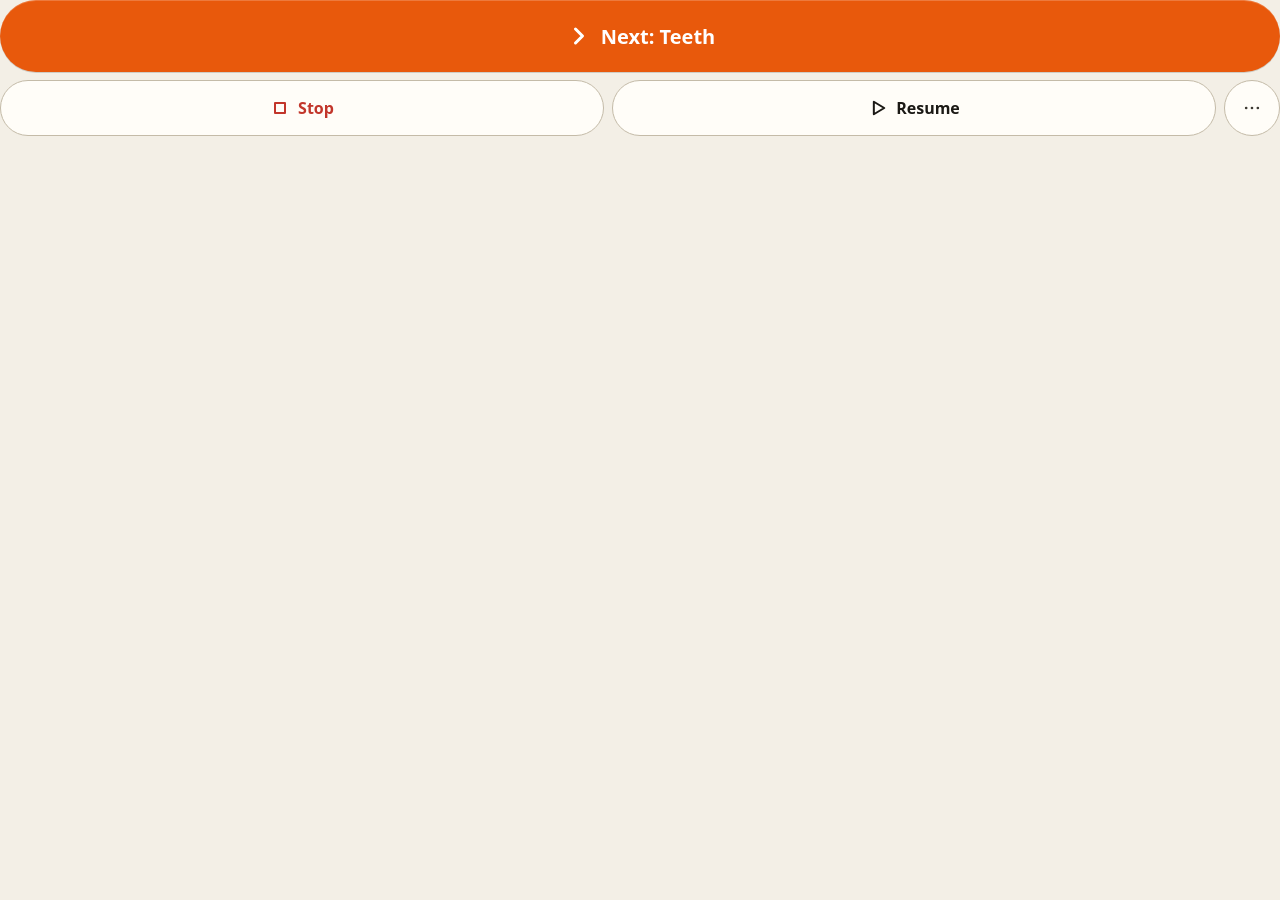
Scenario: RunControls › renders each action once: primary, secondaries, then More with overflow before destructive
Click the button named "More".
click(1252, 108)  # box [1224,80,1279,136]
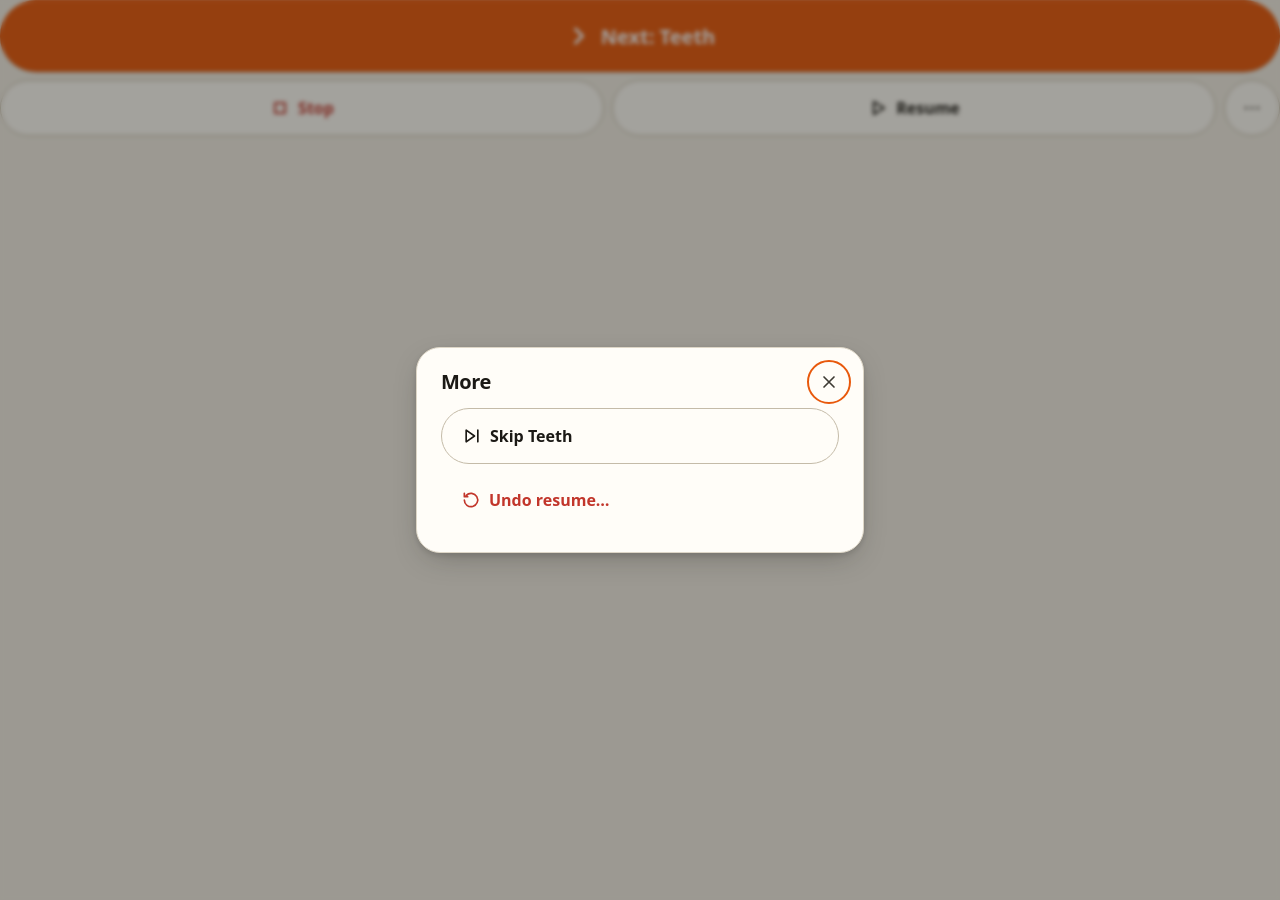
Now the buttons read "Skip Teeth", "Undo resume…", in this order, box [441,408,839,464]; [441,472,839,528]
Now the number of buttons with test id "run-revert" is 1, box [441,472,839,528]
Now the number of buttons with test id "run-skip" is 1, box [441,408,839,464]
